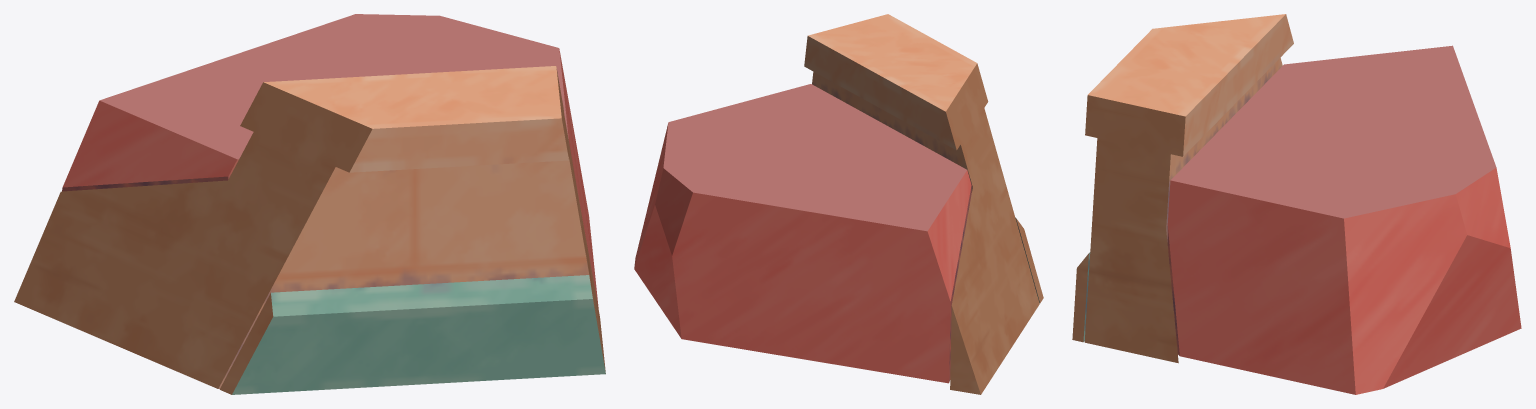
Rendered from vat_s06.fbx.
The picture shows the model from 3 angles, left to right: view 1: azimuth 30°, elevation 25°; view 2: azimuth 150°, elevation 25°; view 3: azimuth 270°, elevation 25°; orthographic projection. The views are drawn at different scales.
Parts seen in each view (by area): view 1: vat_s06; view 2: vat_s06; view 3: vat_s06.
Part boxes in pixels (x1,y1,x2,y2): vat_s06: (14, 14, 605, 394); vat_s06: (634, 14, 1043, 394); vat_s06: (1072, 14, 1521, 394).
Size of the model in its own units: 3.53 by 1.7 by 3.02.
